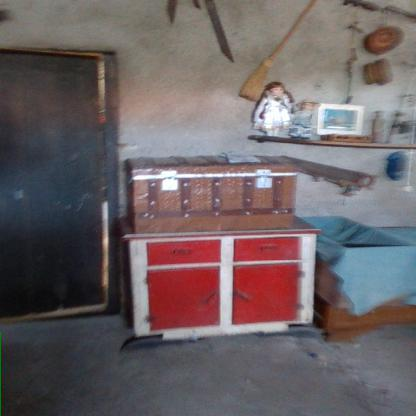door: (2, 50, 103, 310)
